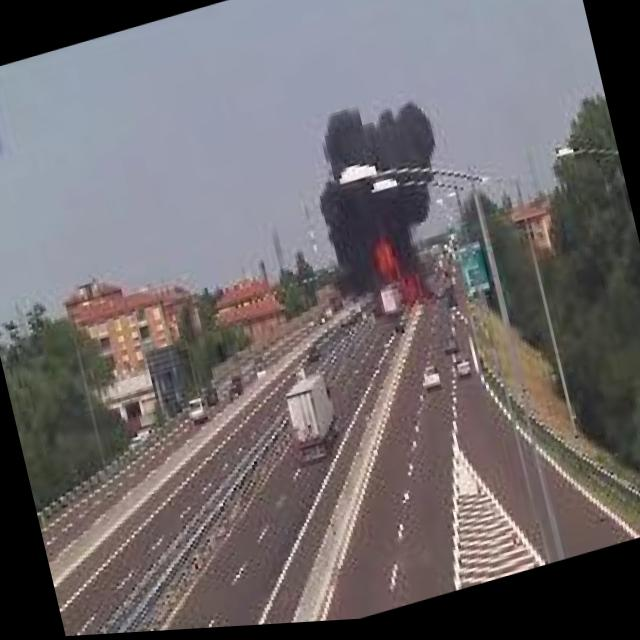fire: (364, 227, 427, 321)
